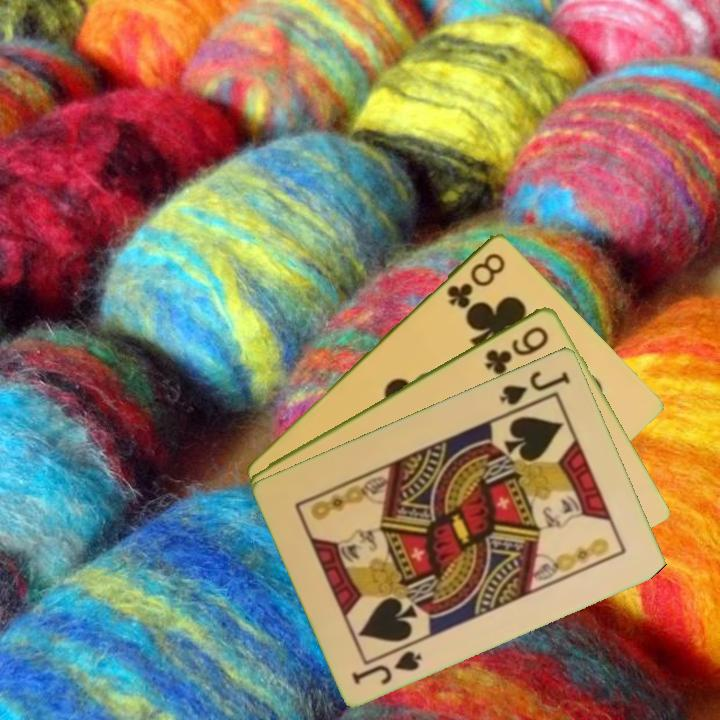8c: (443, 248, 509, 311)
9c: (481, 322, 552, 375)
Js: (495, 367, 574, 408), (348, 646, 426, 687)
